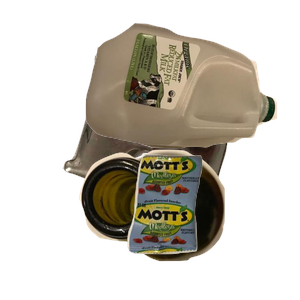glass: (77, 147, 295, 300)
metal: (60, 47, 300, 227)
plastic: (83, 21, 300, 162)
trash: (125, 152, 300, 300)
